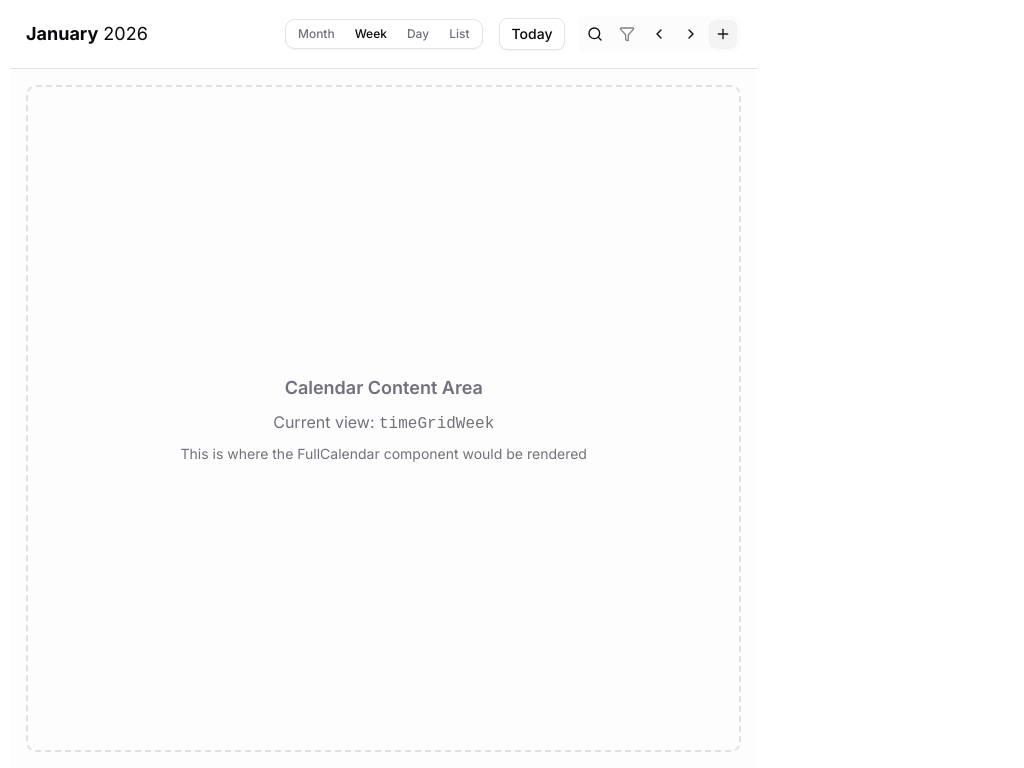
ConsolidatedCalendarHeaderDemo › handles view changes correctly
This screenshot has width=1024, height=768.
# Click on Month view
Click the button "Month" at (316, 34), box [288,22,345,46]
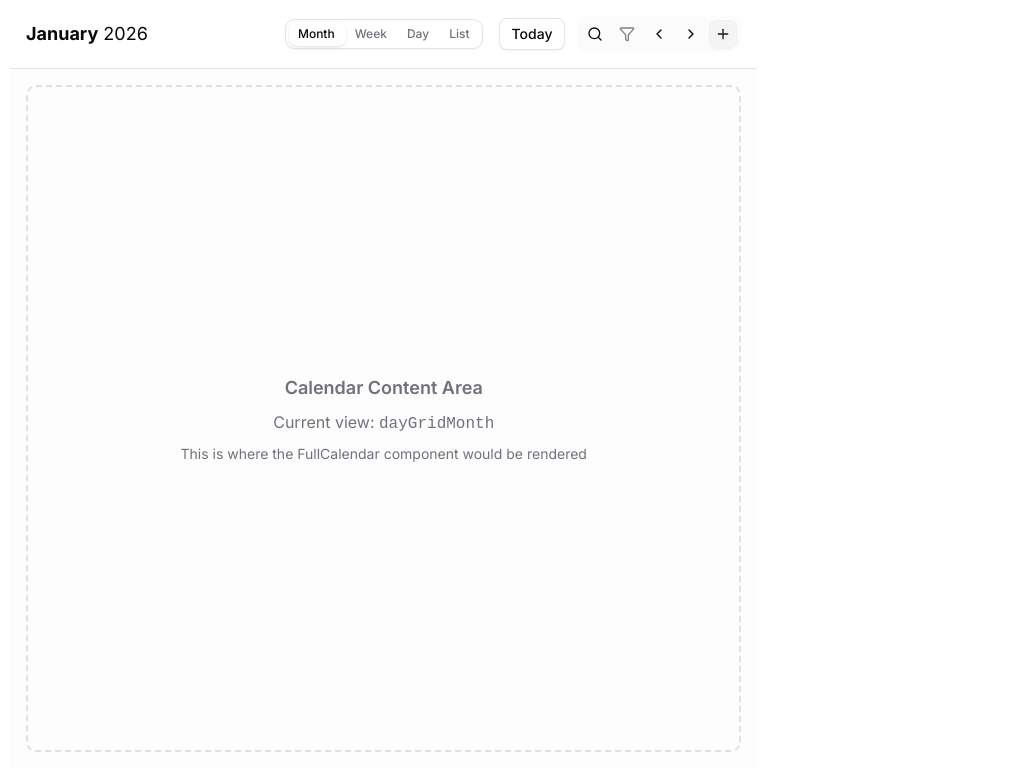
Expected: the text "dayGridMonth" is shown, [379,414,494,432]
